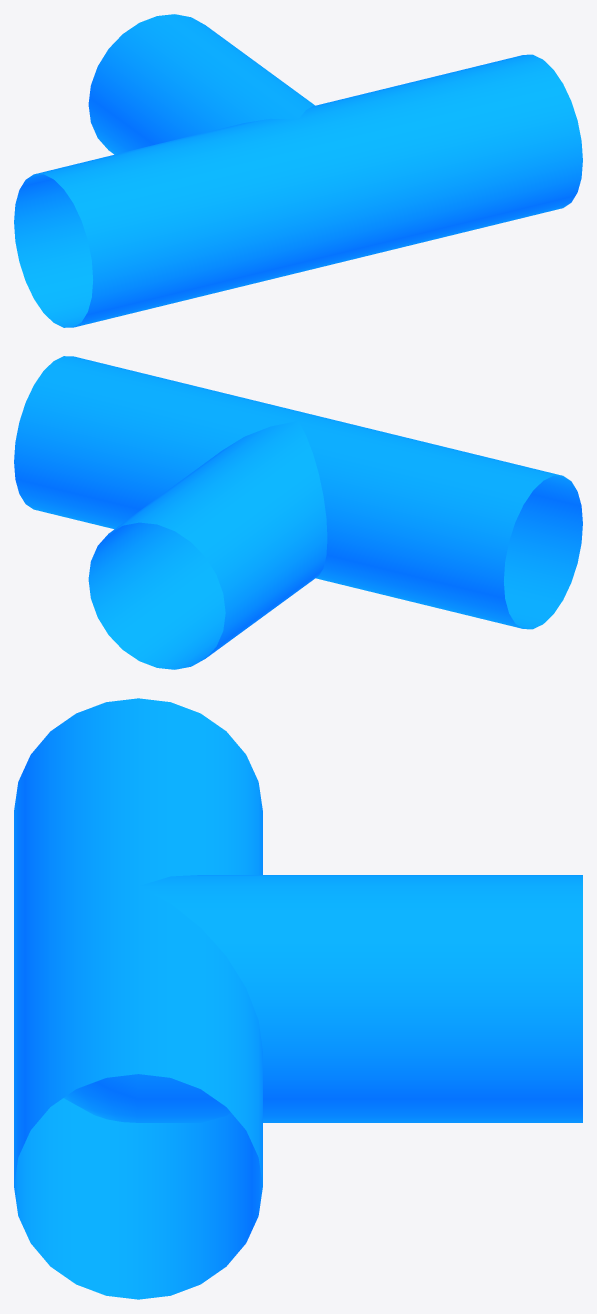
Rendered from wall_t_junction.glb.
3 renders of one model, top to bottom at view 1: azimuth 30°, elevation 25°; view 2: azimuth 150°, elevation 25°; view 3: azimuth 270°, elevation 25°, orthographic. The views are drawn at different scales.
Visible parts, largest first — view 1: wall_t_junction; view 2: wall_t_junction; view 3: wall_t_junction.
Part boxes in pixels (left/top/right/bottom): wall_t_junction: left=14, top=14, right=582, bottom=327; wall_t_junction: left=14, top=356, right=582, bottom=669; wall_t_junction: left=14, top=698, right=582, bottom=1299.
Bounding box in the file's own units: 1 × 0.28 × 0.64.
